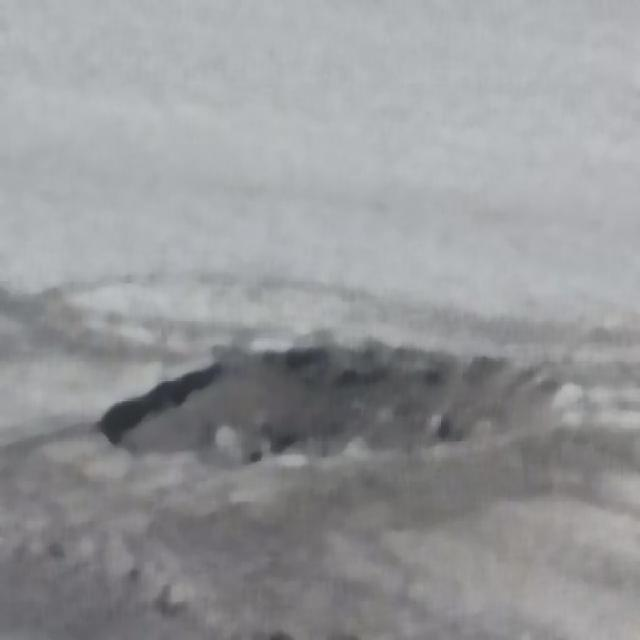Pothole: (98, 344, 585, 464)
